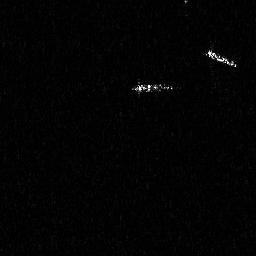ship: (130, 79, 178, 97), (205, 46, 238, 69)
